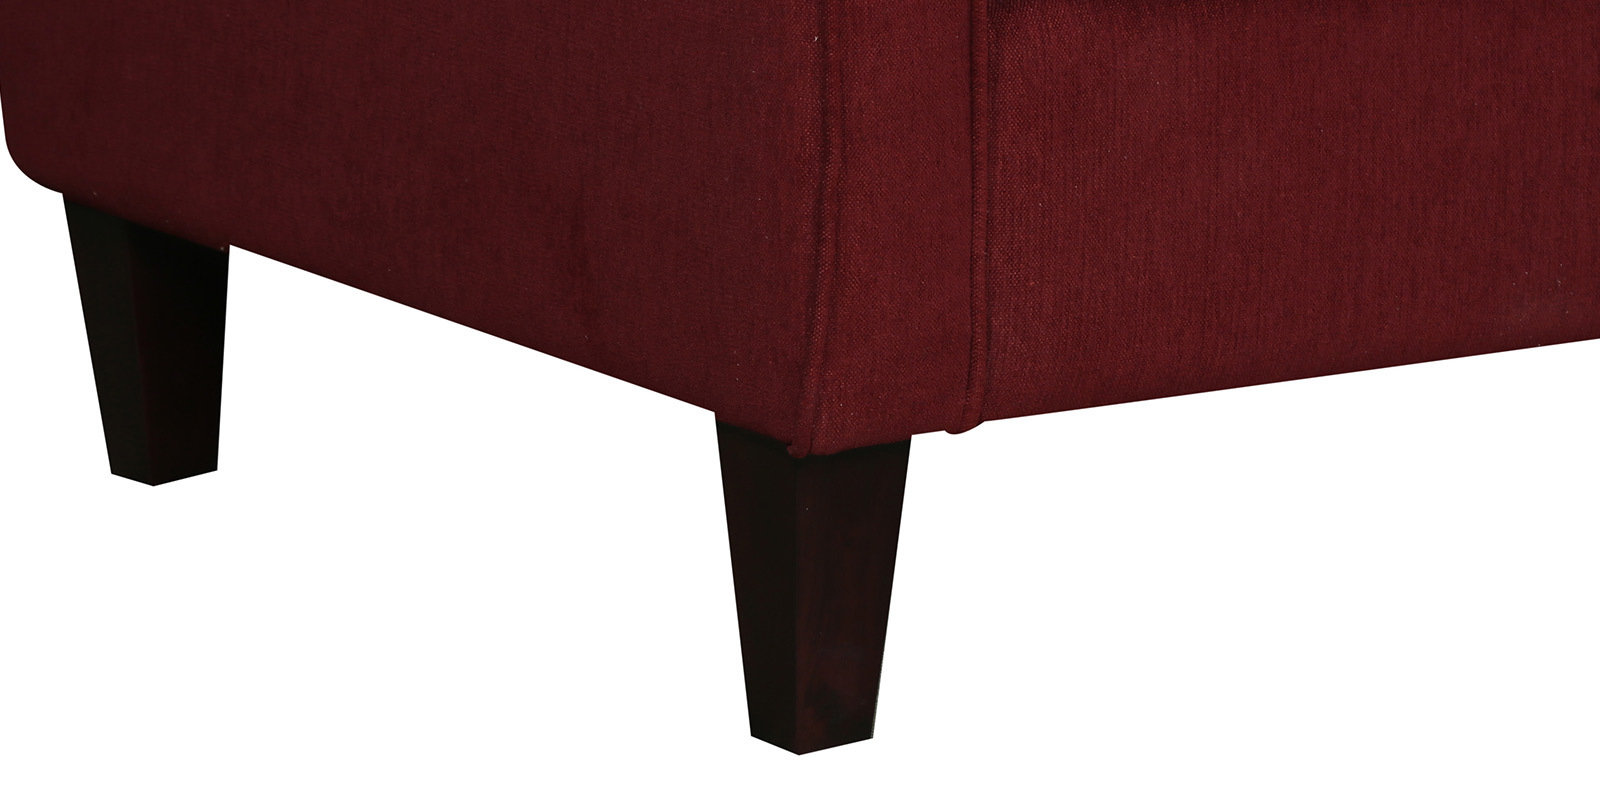Oscar Three Seater Sofa in Garnet Red Colour by CasaCraft: (1, 1, 1600, 760)
